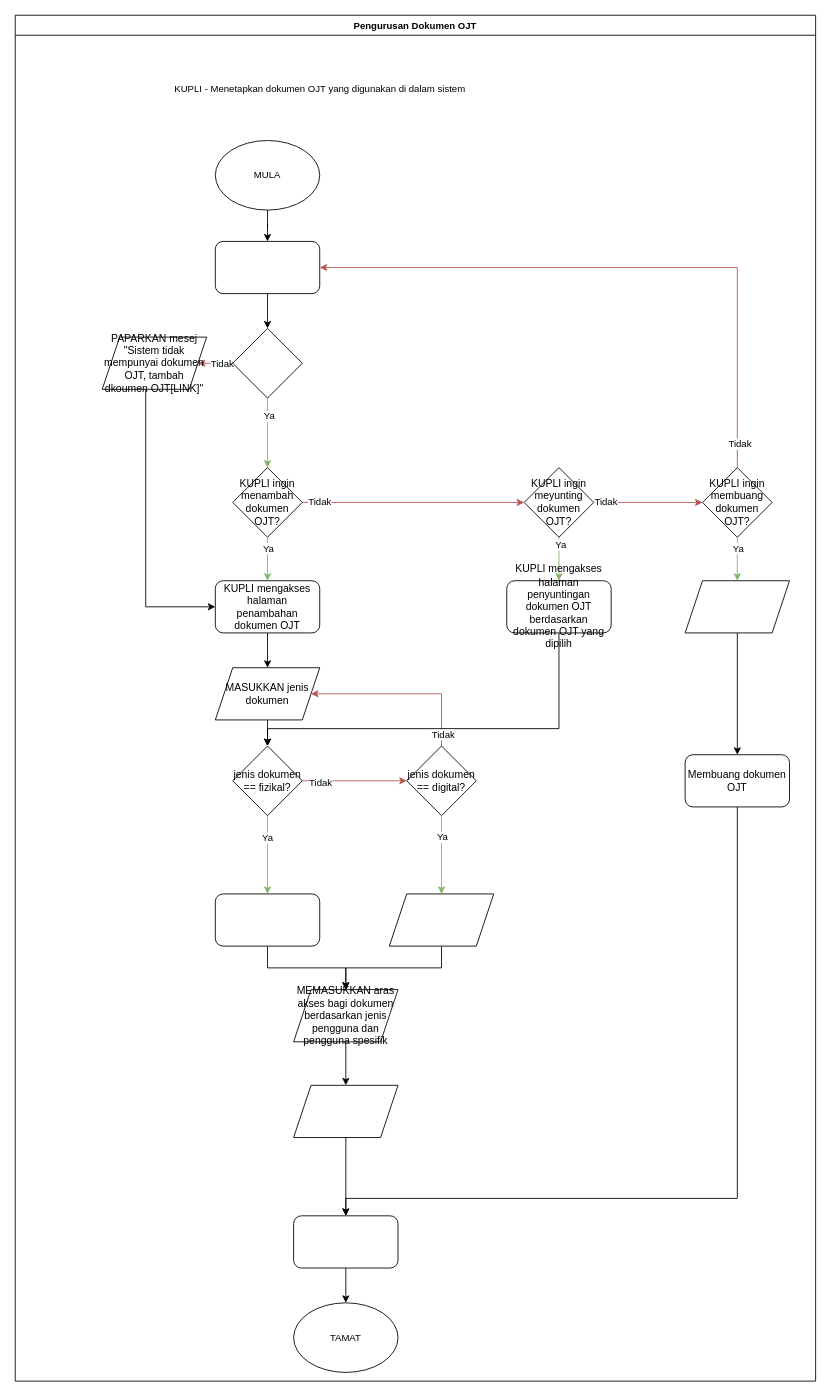
Some shapes in this 831 by 1396 pixel diagram are drawn without their labels. Each missing label, with the box of its shape:
KUPLI memuat naik dokumen OJT di dalam bentuk PDF: (214, 893, 320, 946)
KUPLI mengakses Halaman Pengurusan Dokumen OJT: (214, 241, 320, 294)
Melencong KUPLI ke Halaman Pengurusan Dokumen OJT: (293, 1215, 398, 1268)
MEMASUKKAN input dan menentukan jenis input(Can refer Google Form): (388, 893, 494, 946)
Menambah dokumen OJT ke dalam sistem: (293, 1084, 398, 1138)
PAPARKAN mesej "Anda ingin membuang dokumen OJT[DOKUMEN OJT], anda pasti?": (684, 580, 790, 633)
Terdapat dokumen OJT di dalam sistem?: (232, 328, 302, 398)
